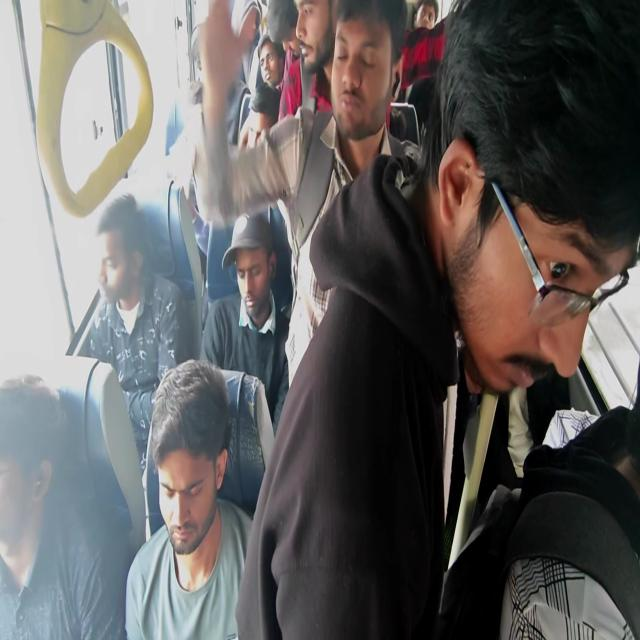person: (441, 24, 640, 402), (144, 377, 236, 560), (0, 378, 86, 564), (568, 390, 640, 570), (102, 201, 170, 355), (294, 0, 362, 146), (204, 24, 248, 114), (237, 0, 278, 91), (403, 8, 458, 72), (330, 20, 366, 109), (245, 250, 290, 321), (250, 110, 282, 179), (258, 24, 276, 70)
